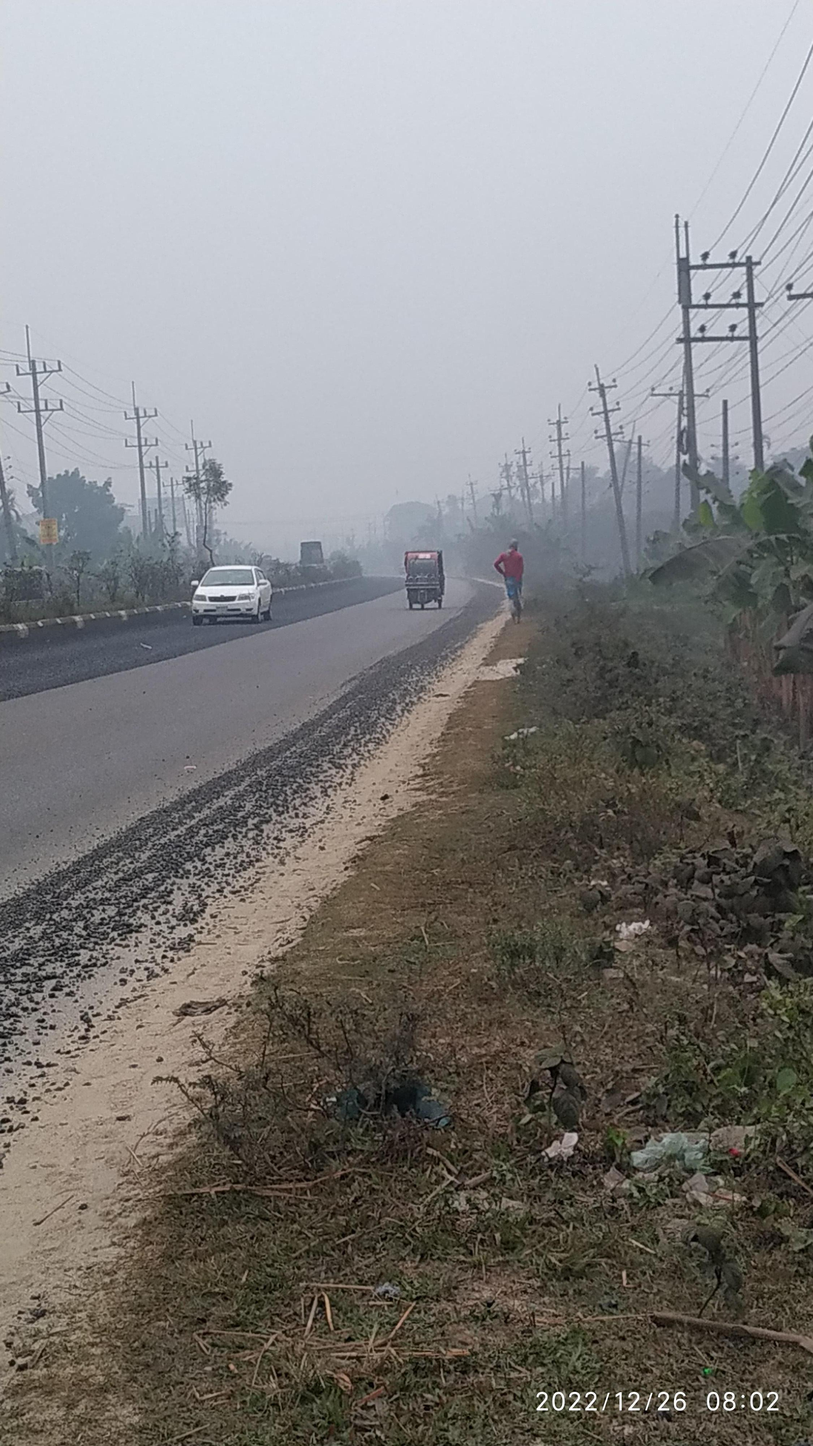Car: (176, 538, 295, 645)
